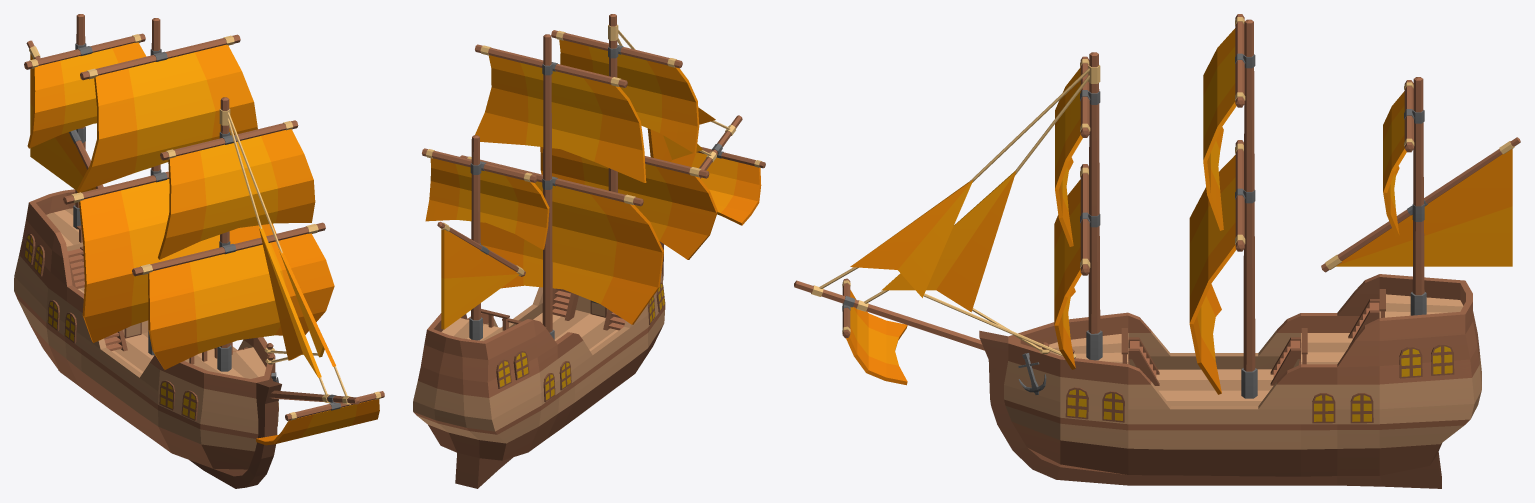
The model's file is ship-5.glb.
The picture shows the model from 3 angles, left to right: view 1: azimuth 30°, elevation 25°; view 2: azimuth 150°, elevation 25°; view 3: azimuth 270°, elevation 25°; orthographic projection. The views are drawn at different scales.
Parts seen in each view (by area): view 1: ship 5; view 2: ship 5; view 3: ship 5.
Part boxes in pixels (x1,y1,x2,y2): ship 5: (14,14,384,488); ship 5: (413,14,765,488); ship 5: (794,14,1520,488).
Bounding box in the file's own units: 13.58 × 27.85 × 39.62.
Materials: 1 (1 with a texture image).
